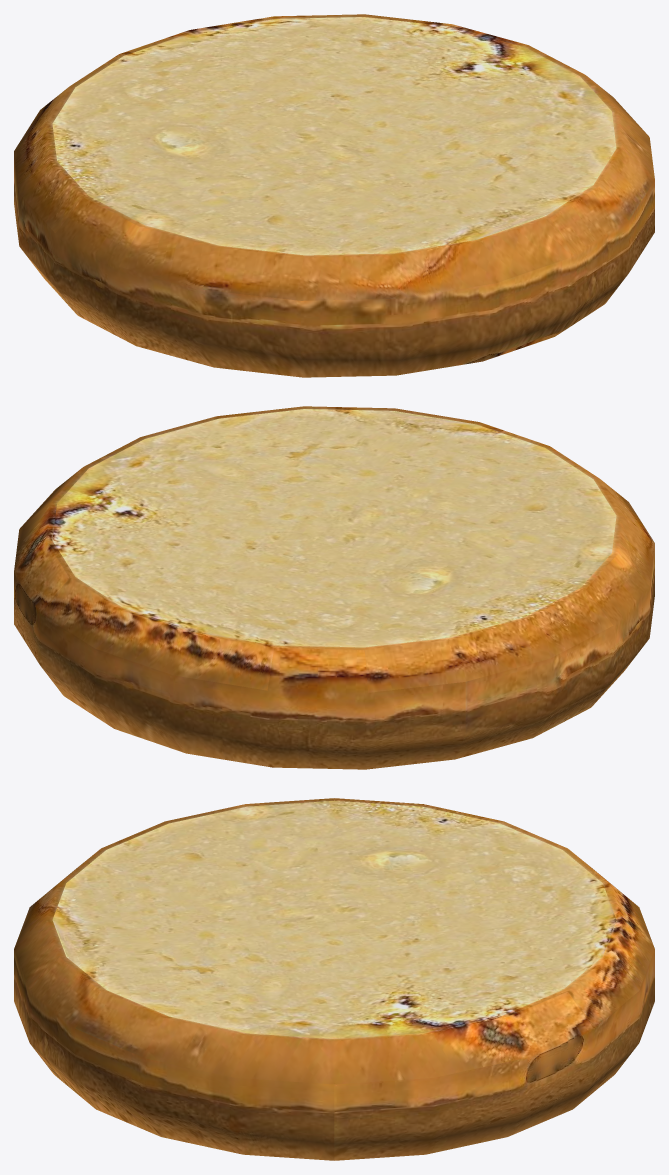
The model's file is bun-bottom.glb.
3 renders of one model, top to bottom at view 1: azimuth 30°, elevation 25°; view 2: azimuth 150°, elevation 25°; view 3: azimuth 270°, elevation 25°, orthographic.
Visible parts, largest first — view 1: bun-bottom; view 2: bun-bottom; view 3: bun-bottom.
Boxes of the visible parts, x1,y1,x2,y2 form: bun-bottom: (14,14,654,377); bun-bottom: (14,406,654,769); bun-bottom: (14,798,654,1160).
Bounding box in the file's own units: 10 × 2 × 10.
Materials: 1 (1 with a texture image).
